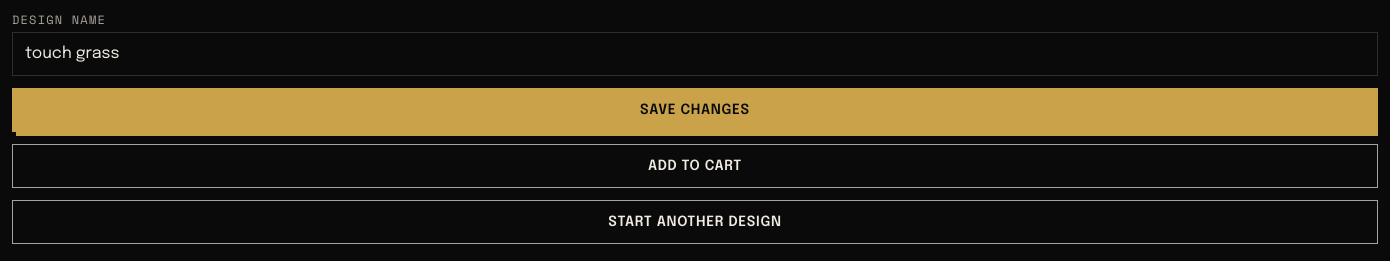
Test: SaveDesign › starts another design without changing the saved design
Click the button "Start another design" at (695, 222), box [12, 200, 1378, 244]
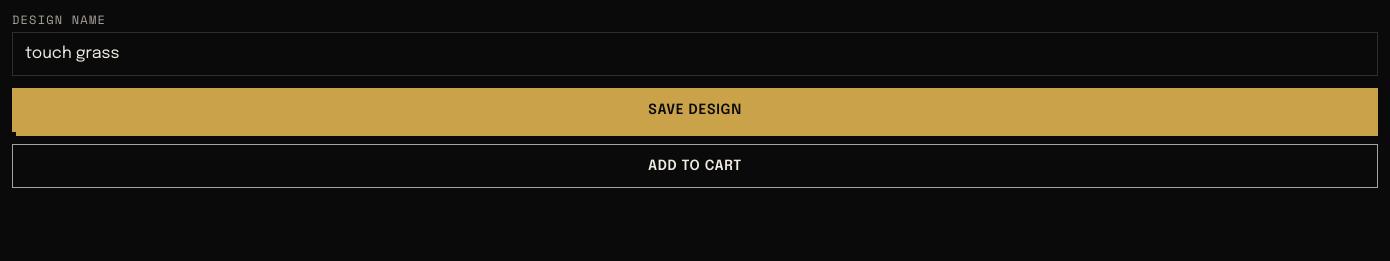
Expected: the button "Save design" is shown, [12, 88, 1378, 132]
